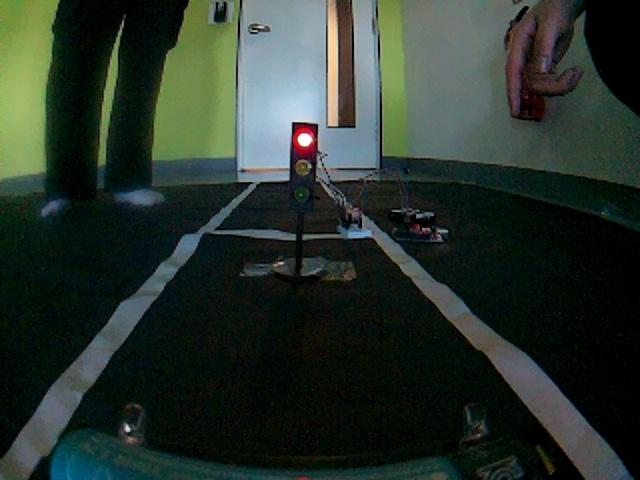go: (16, 327, 597, 480)
red_light: (18, 328, 597, 480), (207, 99, 373, 316)
